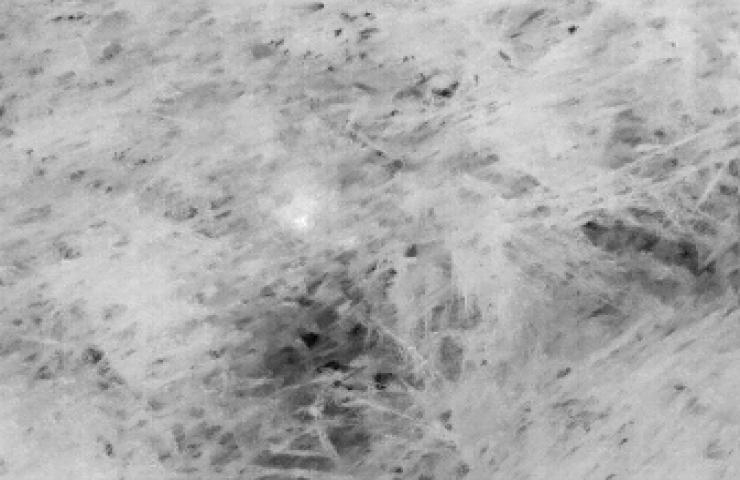landmines: (255, 166, 335, 238)
